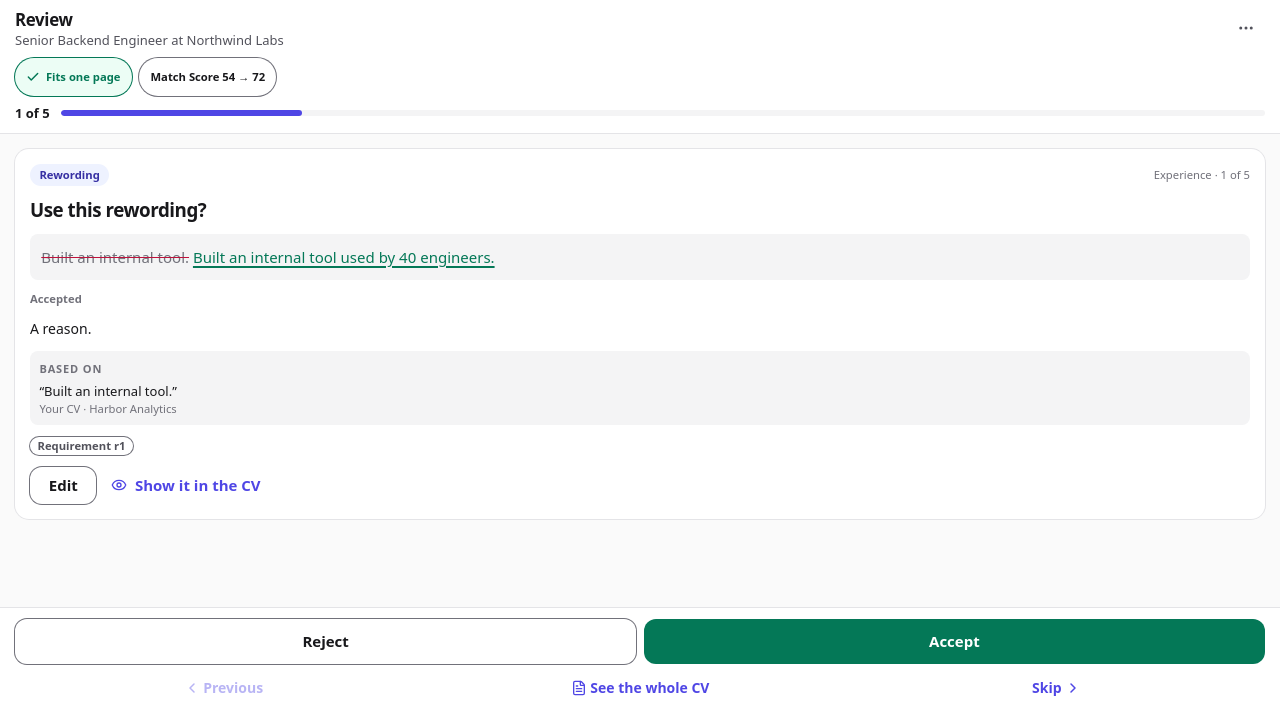
Scenario: Review focus mode at 390px › opens the fit and the checklist as sheets
The width and height of the screenshot is (1280, 720).
Click the button with aria-label "Show details".
click(73, 77)  # box [15,58,132,96]
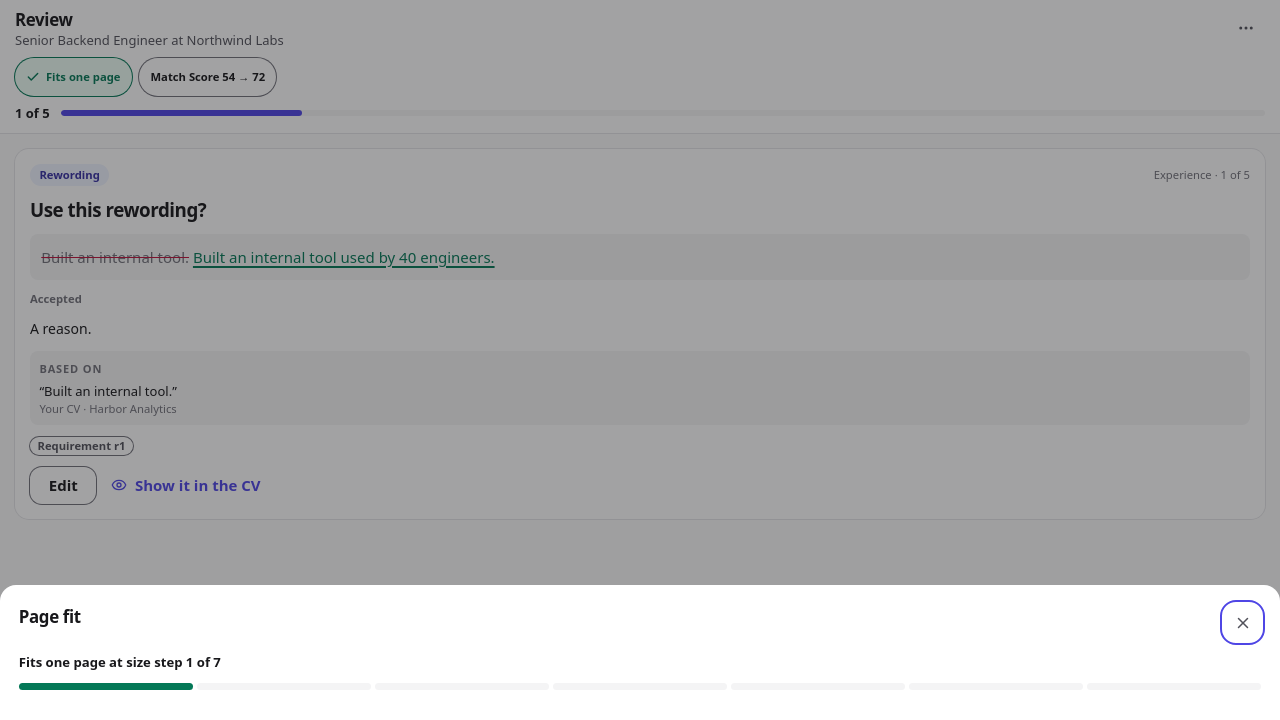
Result: the text "Fits one page at size step 1 of 7" is shown at [19,652,221,670]
Click the button named "Close page fit".
click(1243, 623)  # box [1224,604,1261,641]
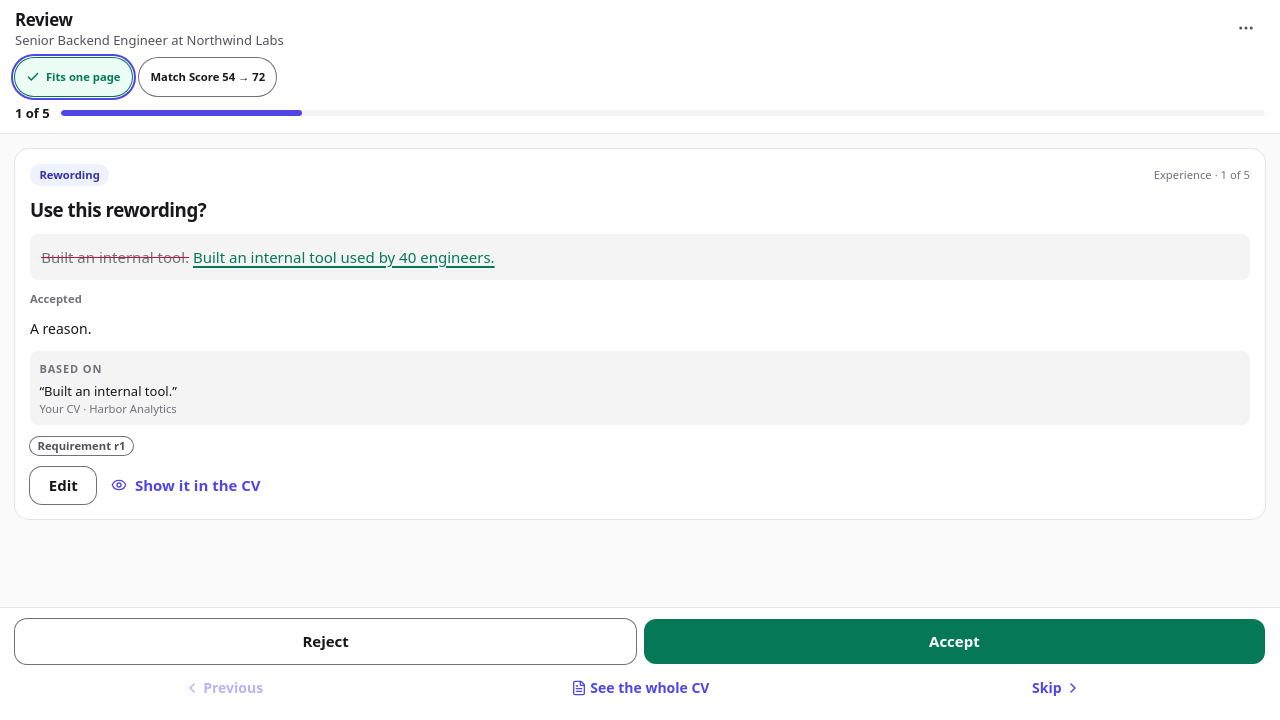
Click the button "Match Score 54 → 72".
click(208, 77)  # box [139,58,276,96]
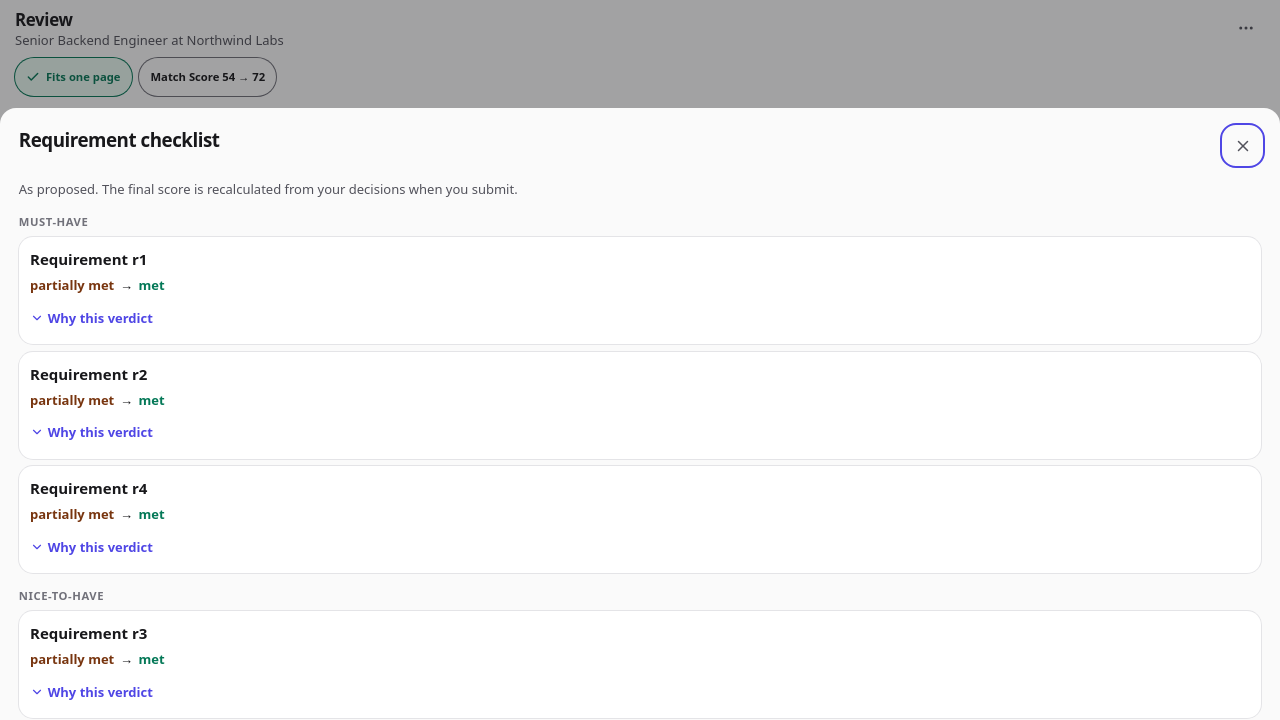
Result: the dialog "Requirement checklist" is shown
